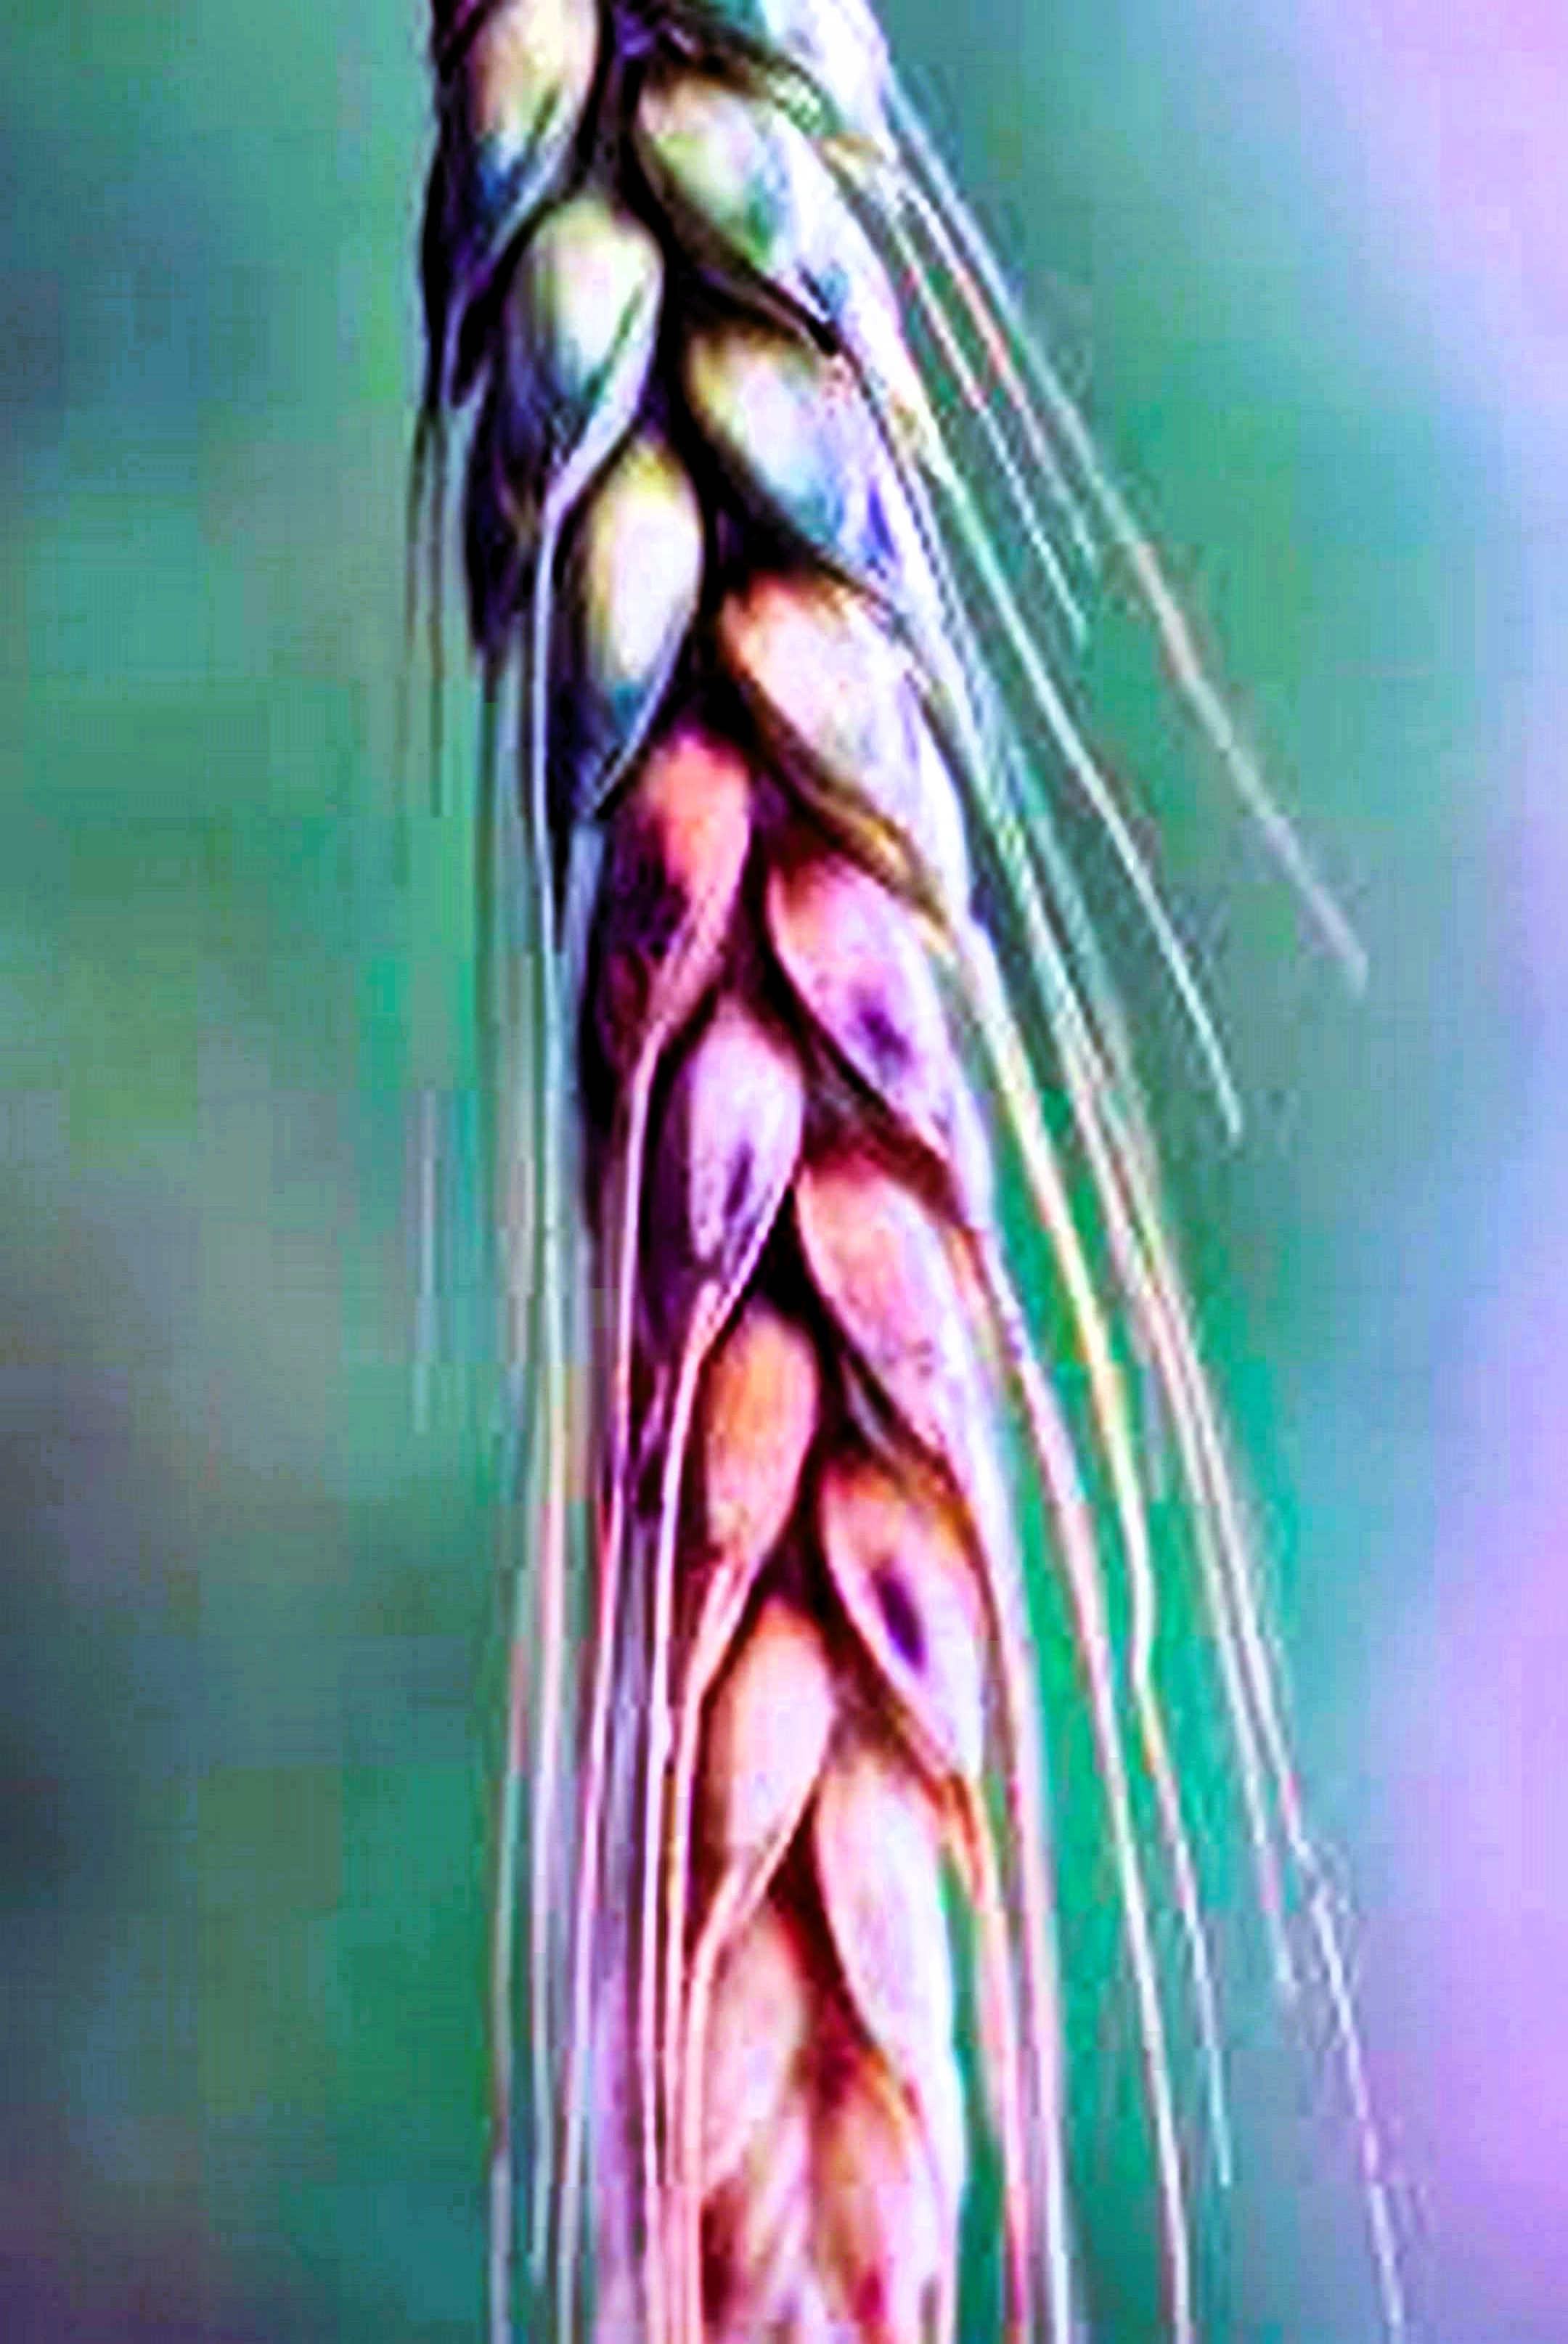Wheat scab: (406, 23, 1120, 2250)
